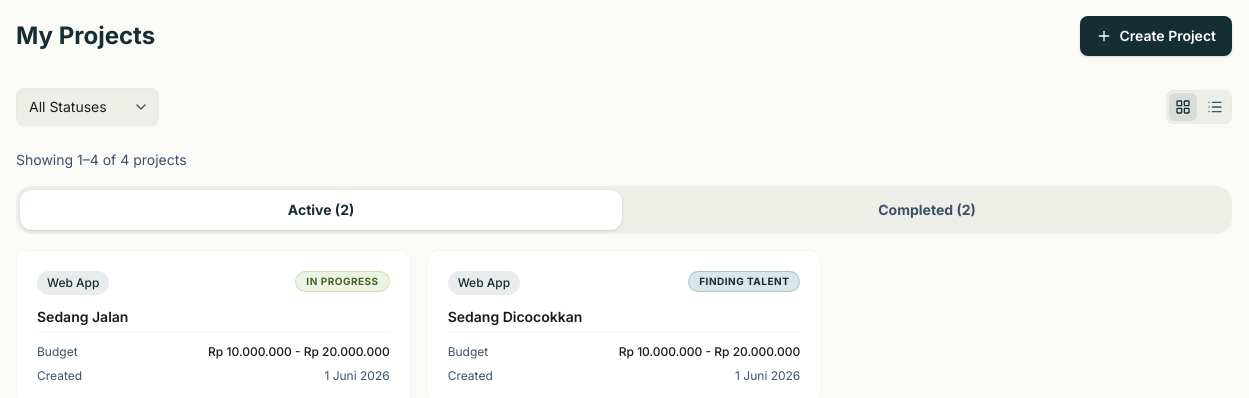
Test: sorting projects into active and completed › shows the active projects first and the finished ones on demand
Expected: the heading "Sedang Jalan" is shown, top-left (37, 308), bottom-right (128, 325)
Expected: the text "Sudah Selesai" is not shown
Click the tab "Completed (2)" at (927, 210), box top-left (626, 190), bottom-right (1228, 230)
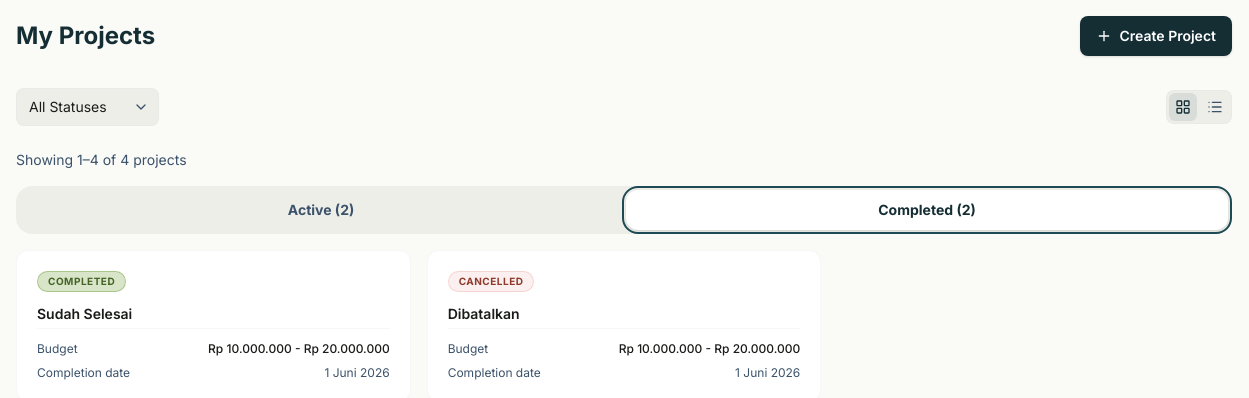
Now the heading "Sudah Selesai" is shown, box top-left (37, 305), bottom-right (132, 322)
Now the heading "Dibatalkan" is shown, box top-left (448, 305), bottom-right (520, 322)
Now the link "Sedang Jalan" is gone
